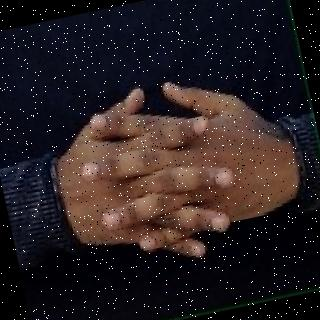W: (43, 54, 287, 294)
